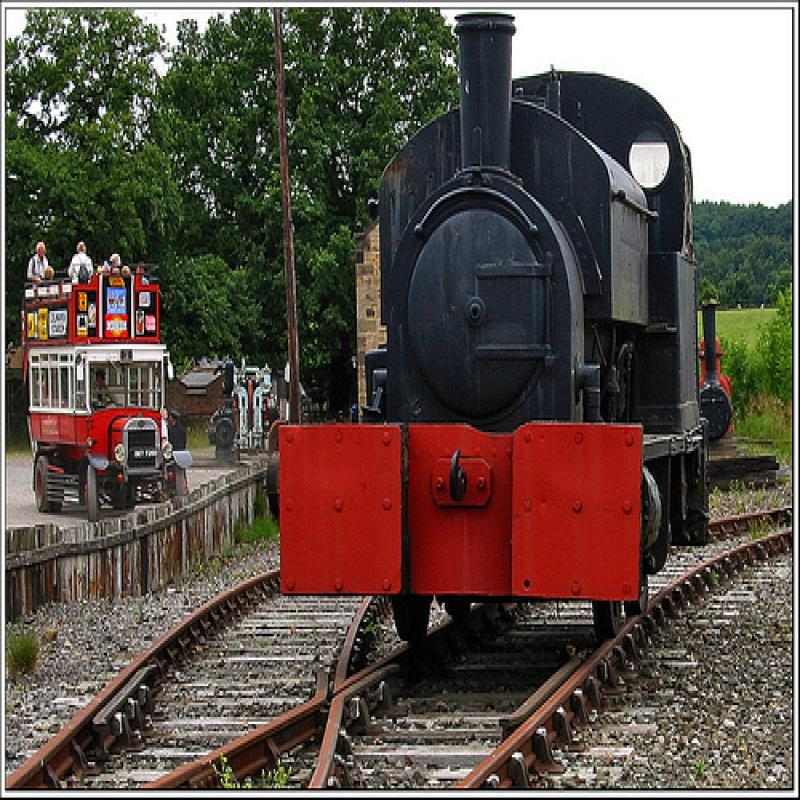train: (268, 8, 715, 652)
